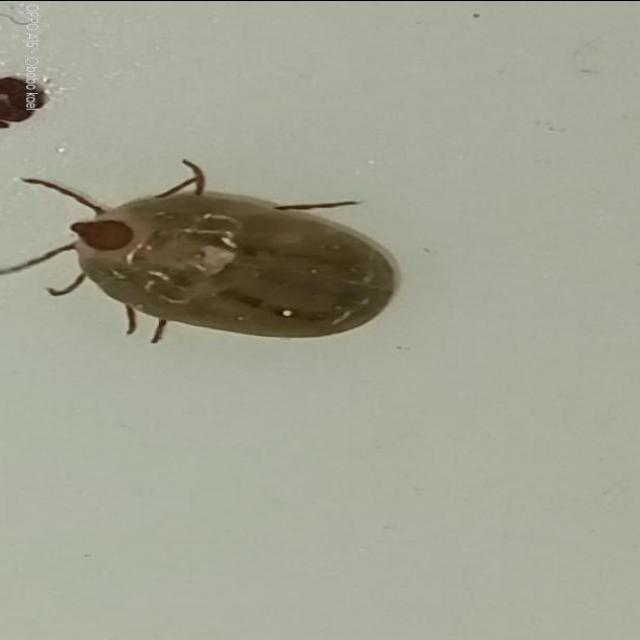Rhipicephalus Sanguineus-F-Fed: (0, 159, 401, 341)
